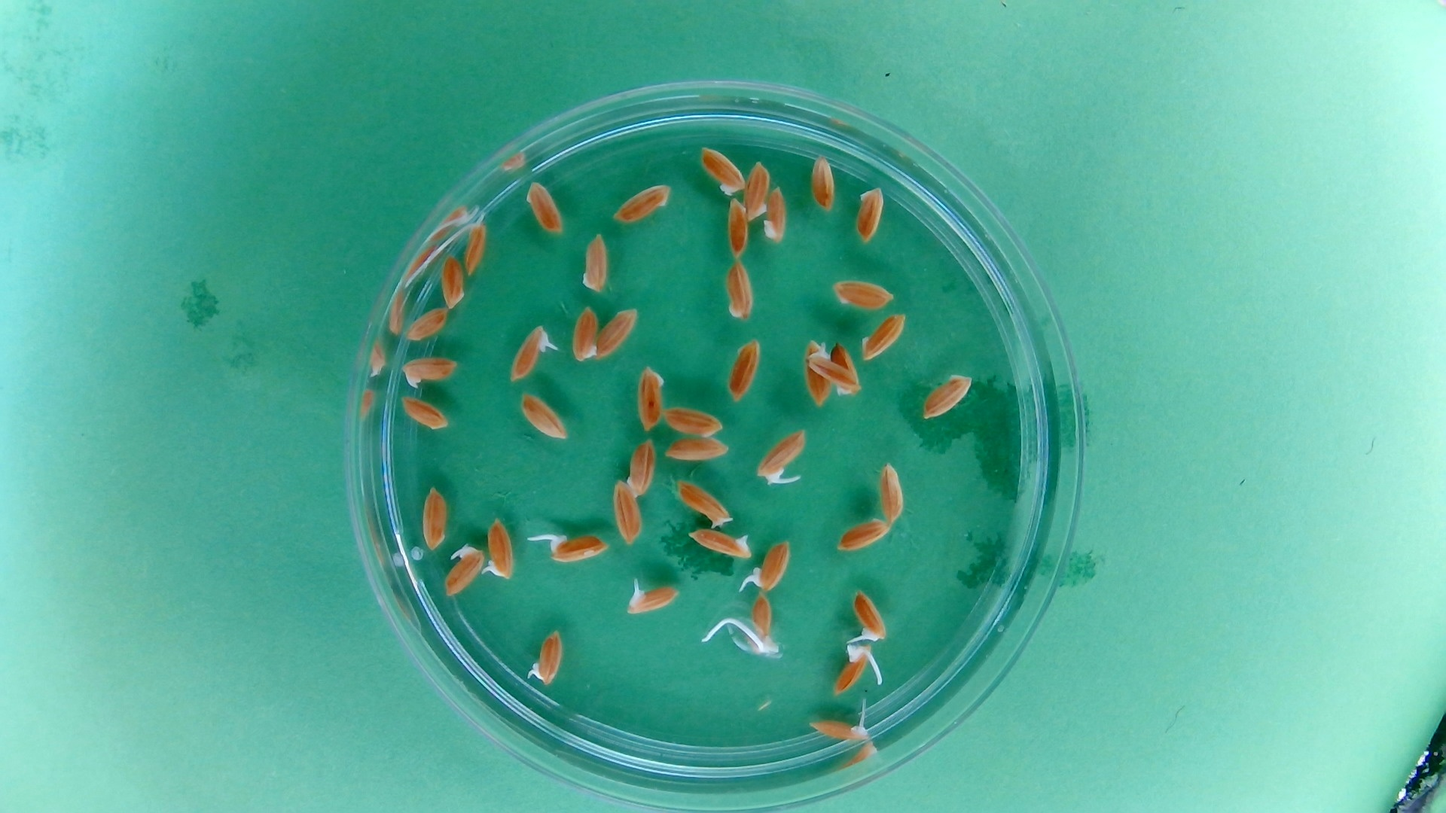no: (674, 477, 734, 530), (610, 181, 673, 227), (920, 371, 975, 423), (697, 142, 748, 196), (519, 389, 570, 442), (593, 304, 639, 362), (859, 310, 908, 364), (725, 334, 762, 404), (523, 178, 566, 237), (609, 478, 644, 547), (633, 364, 667, 434), (828, 278, 895, 313), (483, 514, 518, 581), (722, 257, 758, 322), (418, 484, 451, 553), (578, 230, 612, 296), (660, 404, 724, 439), (834, 516, 891, 554), (398, 355, 459, 389), (853, 184, 887, 245), (398, 393, 451, 432), (624, 437, 657, 499), (877, 460, 908, 525), (663, 435, 732, 464), (401, 303, 450, 343), (742, 157, 772, 222), (831, 339, 864, 397), (569, 303, 600, 364), (804, 338, 831, 406), (807, 153, 837, 214), (722, 196, 750, 260), (438, 251, 467, 310), (762, 184, 790, 245)
yes: (755, 428, 808, 483), (508, 324, 552, 382), (831, 642, 877, 696), (442, 544, 486, 598), (749, 539, 792, 592), (528, 627, 565, 685), (688, 527, 752, 560), (747, 592, 779, 657), (548, 531, 609, 565), (851, 588, 887, 642), (624, 581, 680, 615), (813, 349, 854, 395), (807, 712, 871, 741), (462, 218, 490, 276)
